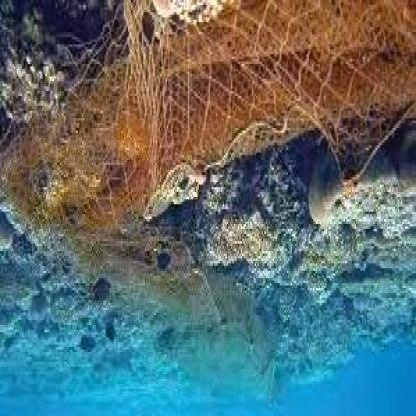net: (32, 2, 416, 229)
